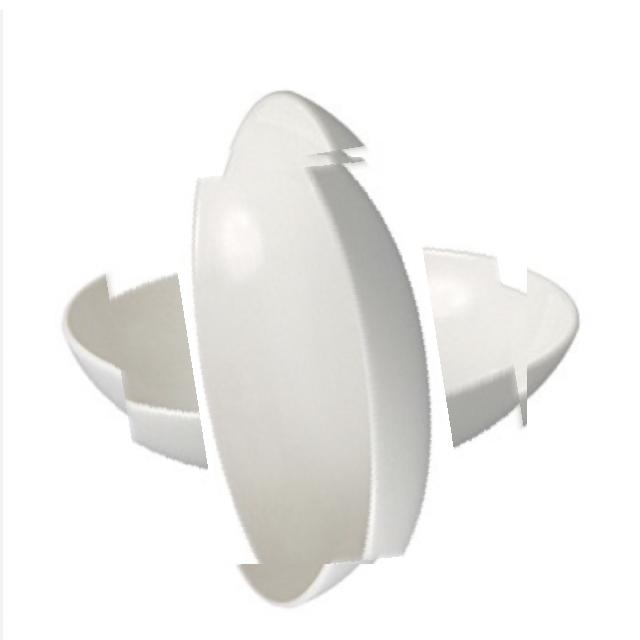recyclable: (106, 142, 527, 564)
